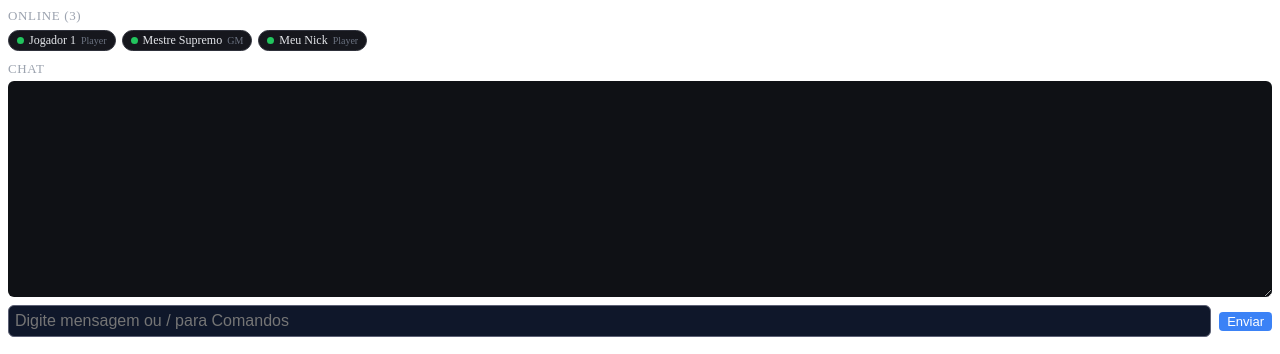
Test: ChatPanel autocomplete › fecha o autocomplete com Escape
Type "/" into the field with placeholder "Digite mensagem ou / para Comandos" at (610, 321), box [8,305,1211,337]
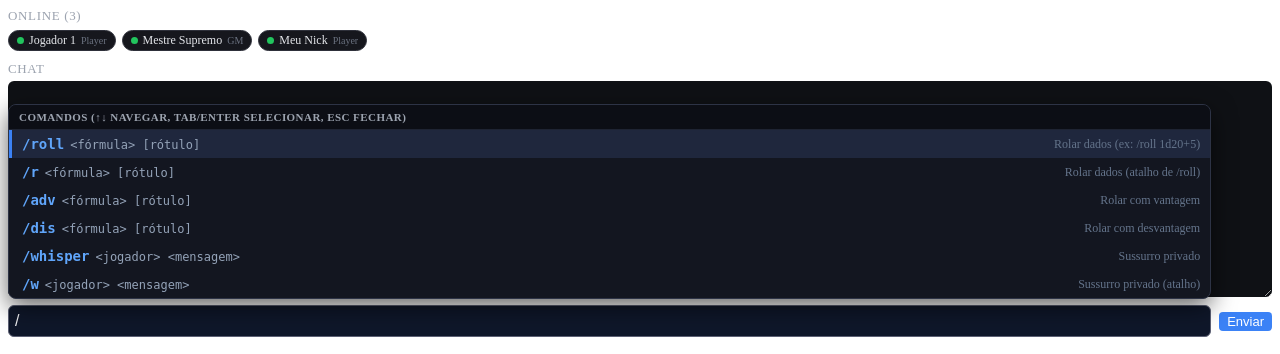
Expected: the list is shown, [8,104,1211,299]
Press Escape in the field with placeholder "Digite mensagem ou / para Comandos", box [8,305,1211,337]
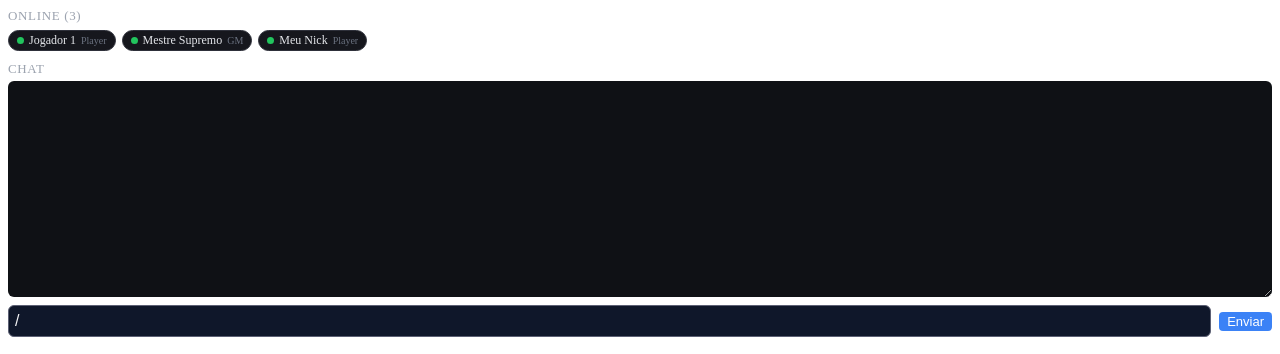
Expected: the list is gone
